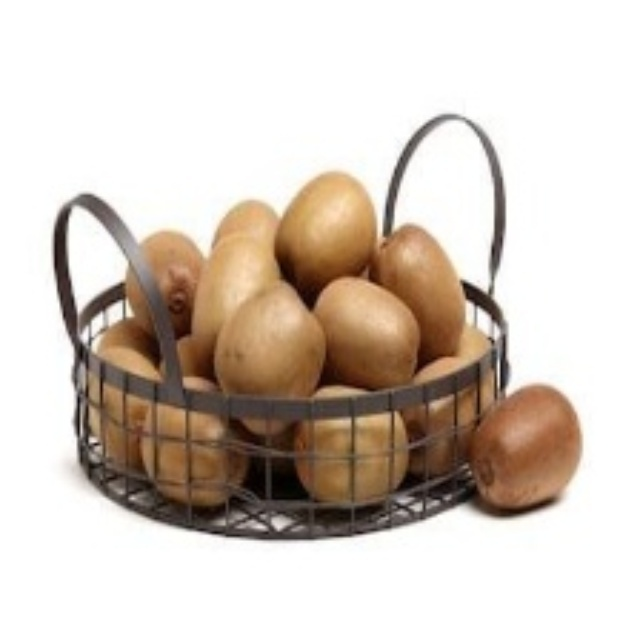kiwi: (220, 295, 328, 427), (475, 386, 584, 512), (367, 232, 464, 360), (312, 274, 420, 387), (280, 170, 376, 282), (115, 231, 212, 334)
